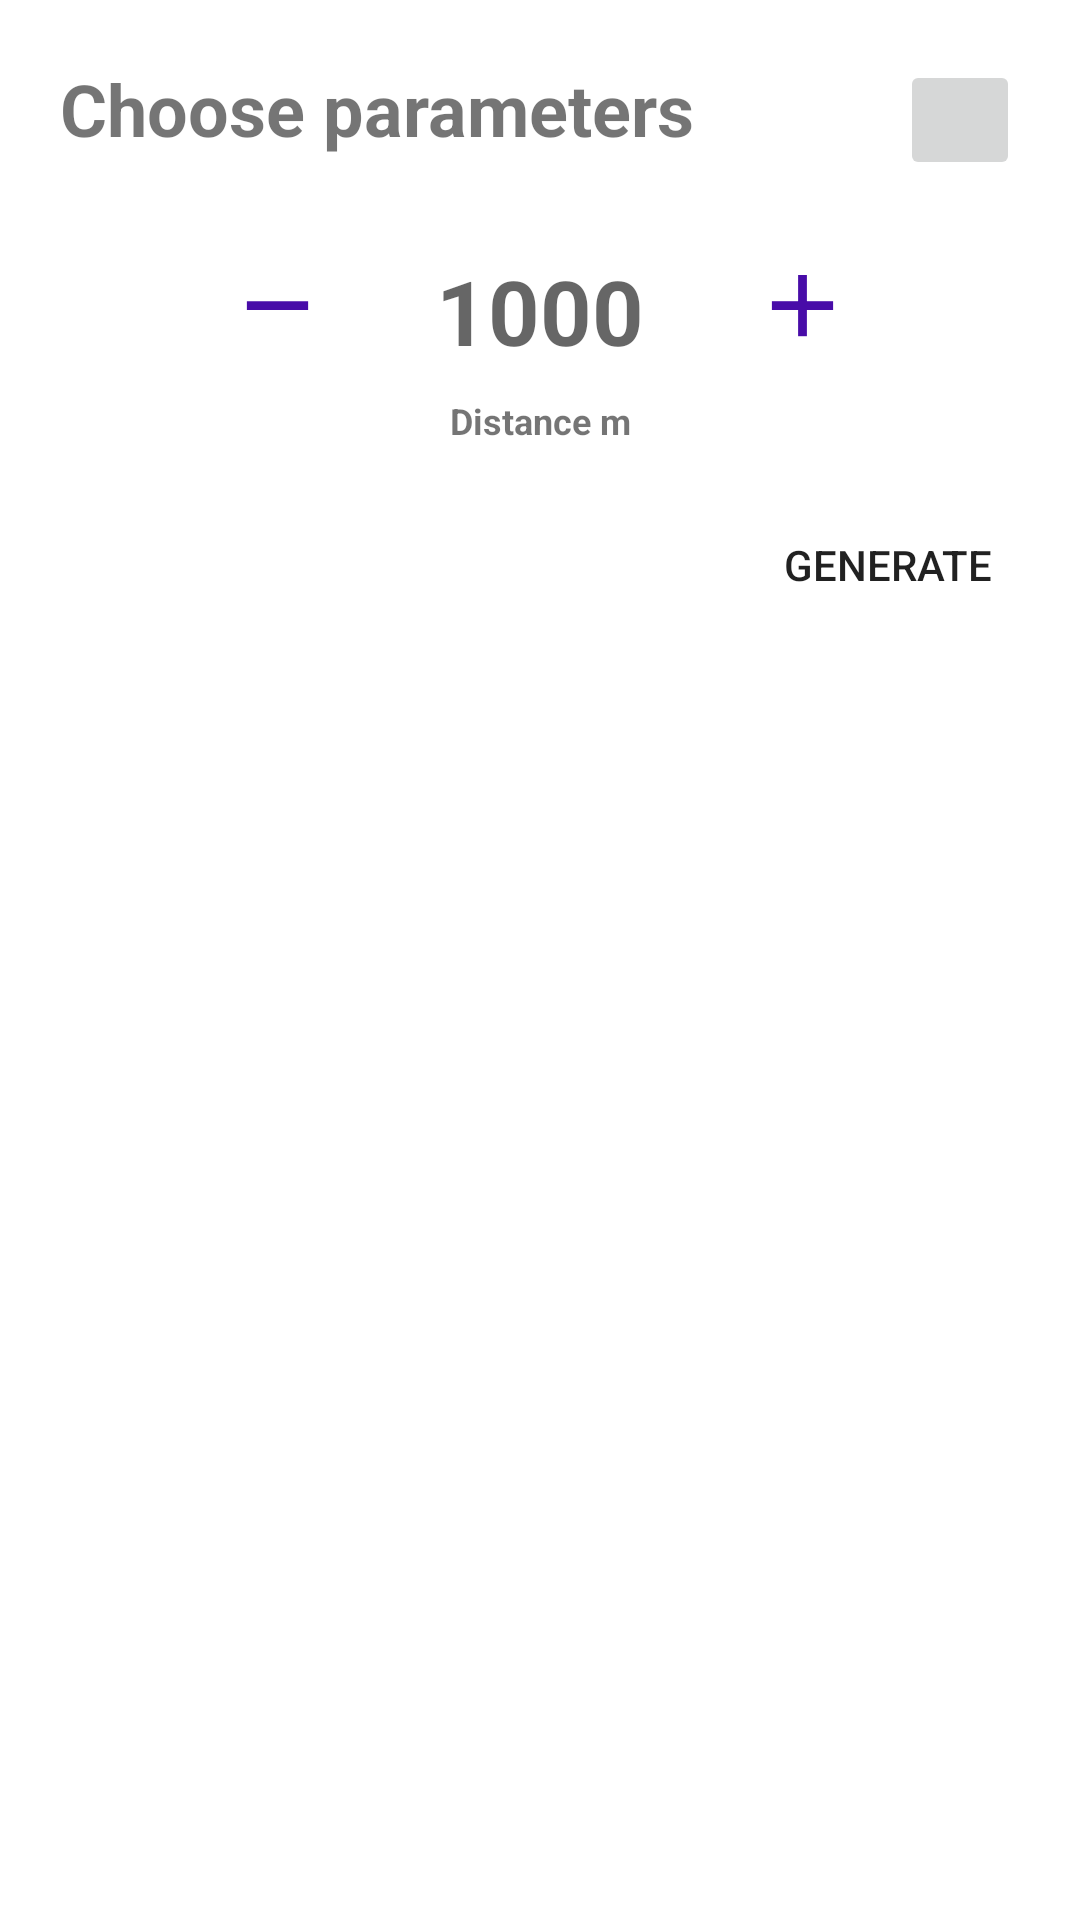

Screen size 1080px×1920px. Icon name, then its box in pixels as BBox(x1, y1, x2, y2):
add: BBox(771, 275, 834, 337)
